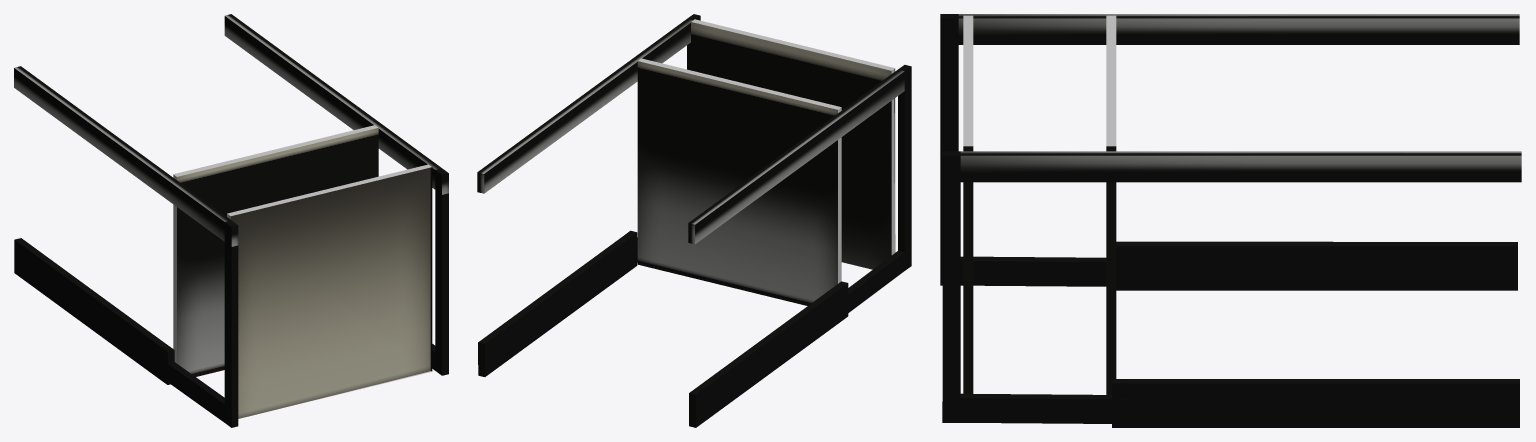
The model's file is tableshortthin118_wtf.obj.
The picture shows the model from 3 angles, left to right: view 1: azimuth 30°, elevation 25°; view 2: azimuth 150°, elevation 25°; view 3: azimuth 270°, elevation 25°; orthographic projection. The views are drawn at different scales.
Parts seen in each view (by area): view 1: group8, group4, group2, group9, group7, group6; view 2: group8, group4, group2, group9, group7; view 3: group2, group4, group9, group6, group5.
Part boxes in pixels (<box>): group8: <box>177,128,430,418</box>; group4: <box>14,66,238,427</box>; group2: <box>224,14,448,375</box>; group9: <box>173,125,431,413</box>; group7: <box>173,174,230,363</box>; group6: <box>430,167,432,371</box>; group8: <box>637,22,895,305</box>; group4: <box>688,65,911,427</box>; group2: <box>477,14,700,376</box>; group9: <box>638,19,894,109</box>; group7: <box>838,68,895,283</box>; group2: <box>942,151,1521,427</box>; group4: <box>940,14,1519,290</box>; group9: <box>963,15,1116,146</box>; group6: <box>963,146,973,393</box>; group5: <box>1106,146,1116,394</box>.
Bounding box in the file's own units: 381 × 346 × 660.
